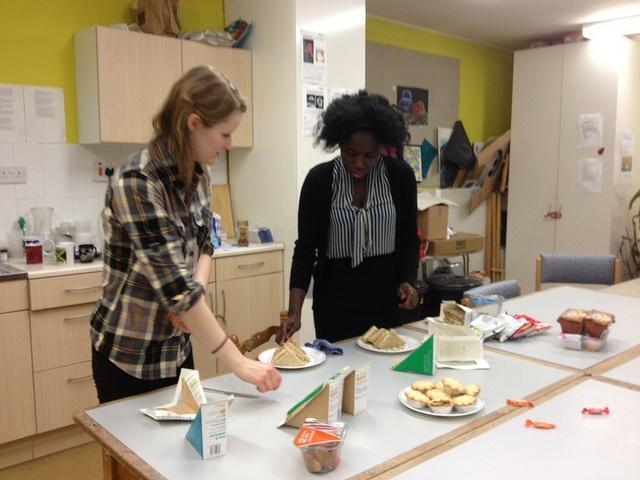Lemari: (502, 33, 639, 295)
Meja: (71, 281, 639, 479)
